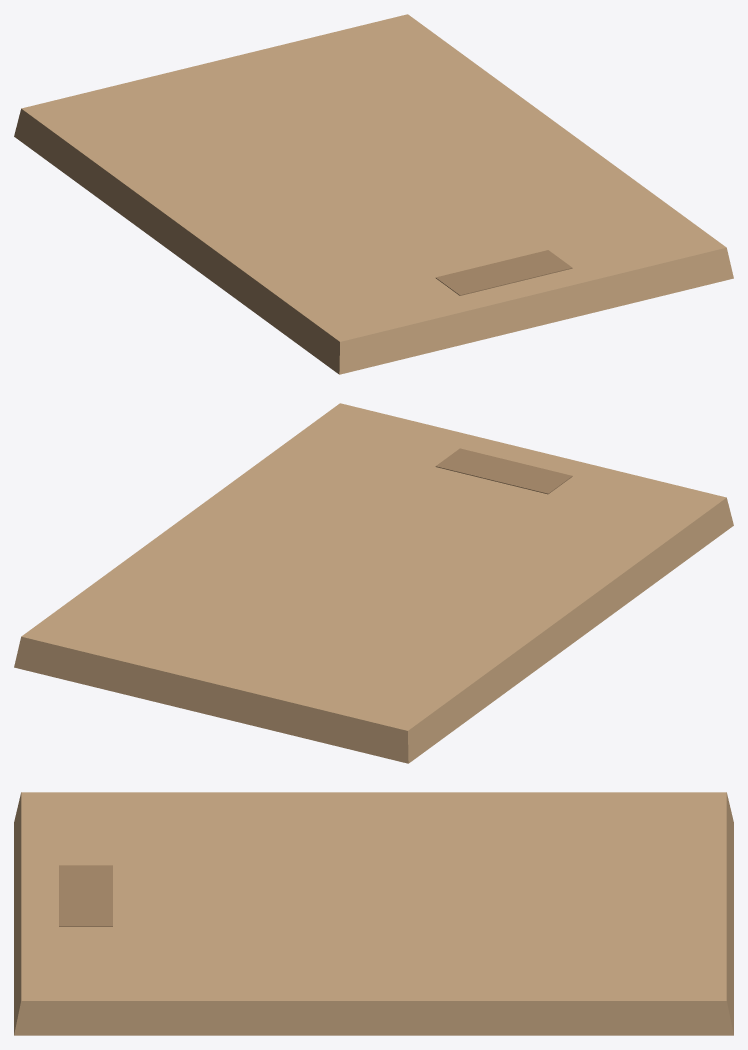
File: cutting_board.glb
3 renders of one model, top to bottom at view 1: azimuth 30°, elevation 25°; view 2: azimuth 150°, elevation 25°; view 3: azimuth 270°, elevation 25°, orthographic. The views are drawn at different scales.
Bounding box in the file's own units: 0.28 × 0.0205 × 0.4.
